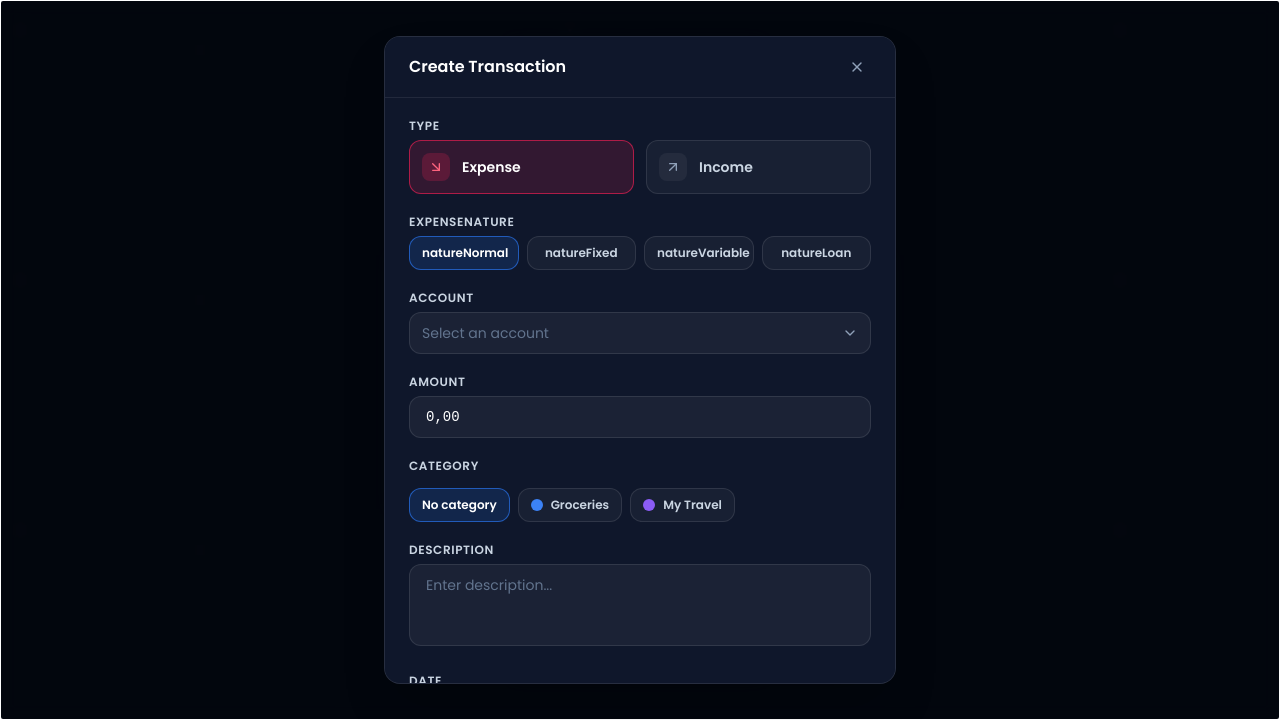
CreateTransactionModal › should display account dropdown with grouped options
Click the dropdown labelled "account" at (485, 333), box [409,312,871,354]
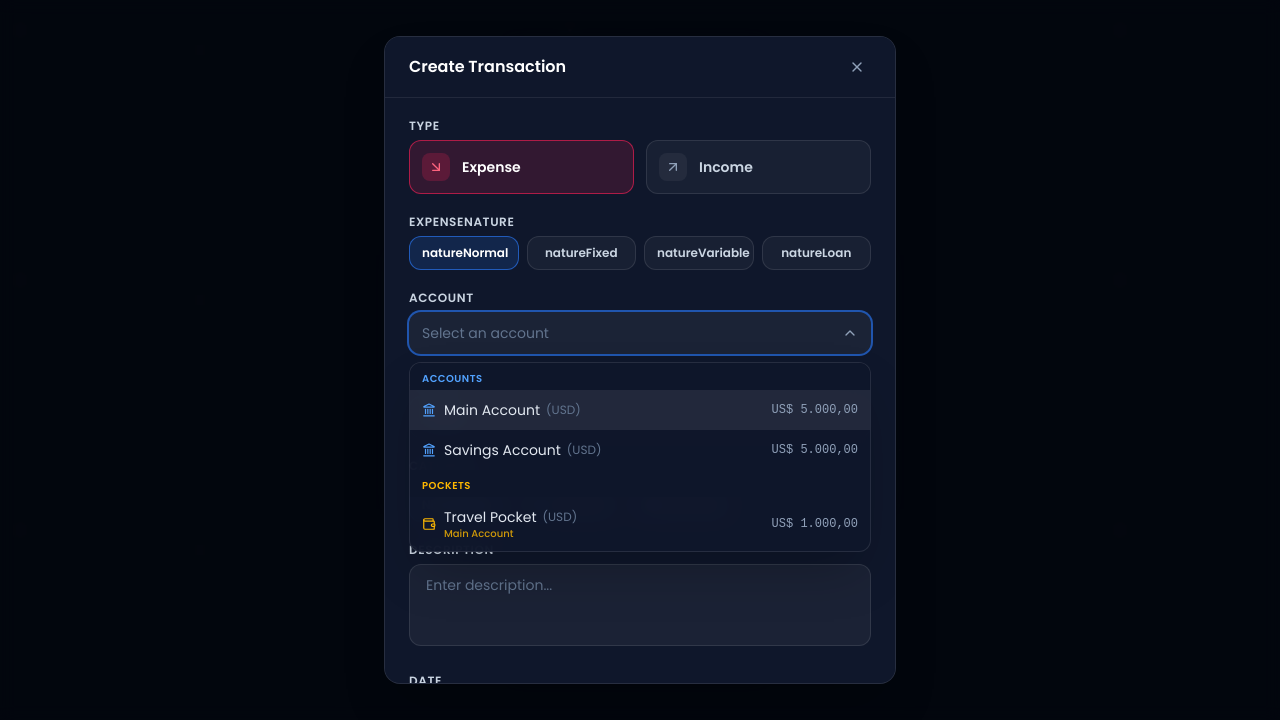
Check: the option "Main Account (USD) US$ 5.000,00" is shown, box [410,390,870,430]
Check: the option "Savings Account (USD) US$ 5.000,00" is shown, box [410,430,870,470]
Check: the option "Travel Pocket (USD) Main Account US$ 1.000,00" is shown, box [410,497,870,551]
